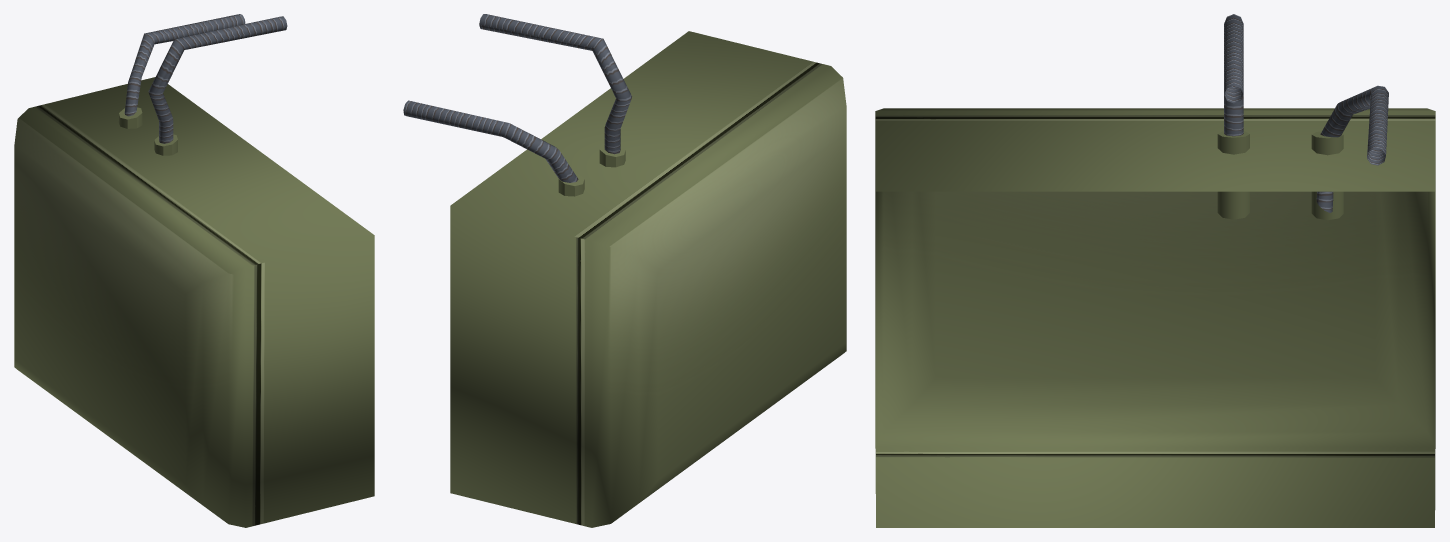
Rendered from teleprompter_crank_box.FBX.
3 views of the same model, side by side, from view 1: azimuth 30°, elevation 25°; view 2: azimuth 150°, elevation 25°; view 3: azimuth 270°, elevation 25° (orthographic). The views are drawn at different scales.
Visible parts, largest first — view 1: _box; view 2: _box; view 3: _box.
Part boxes in pixels (box(x1,y1,x2,y2)): _box: box(14, 14, 374, 527); _box: box(403, 14, 846, 527); _box: box(875, 14, 1435, 527).
Size of the model in its own units: 0.3884 by 0.6043 by 0.6435.
